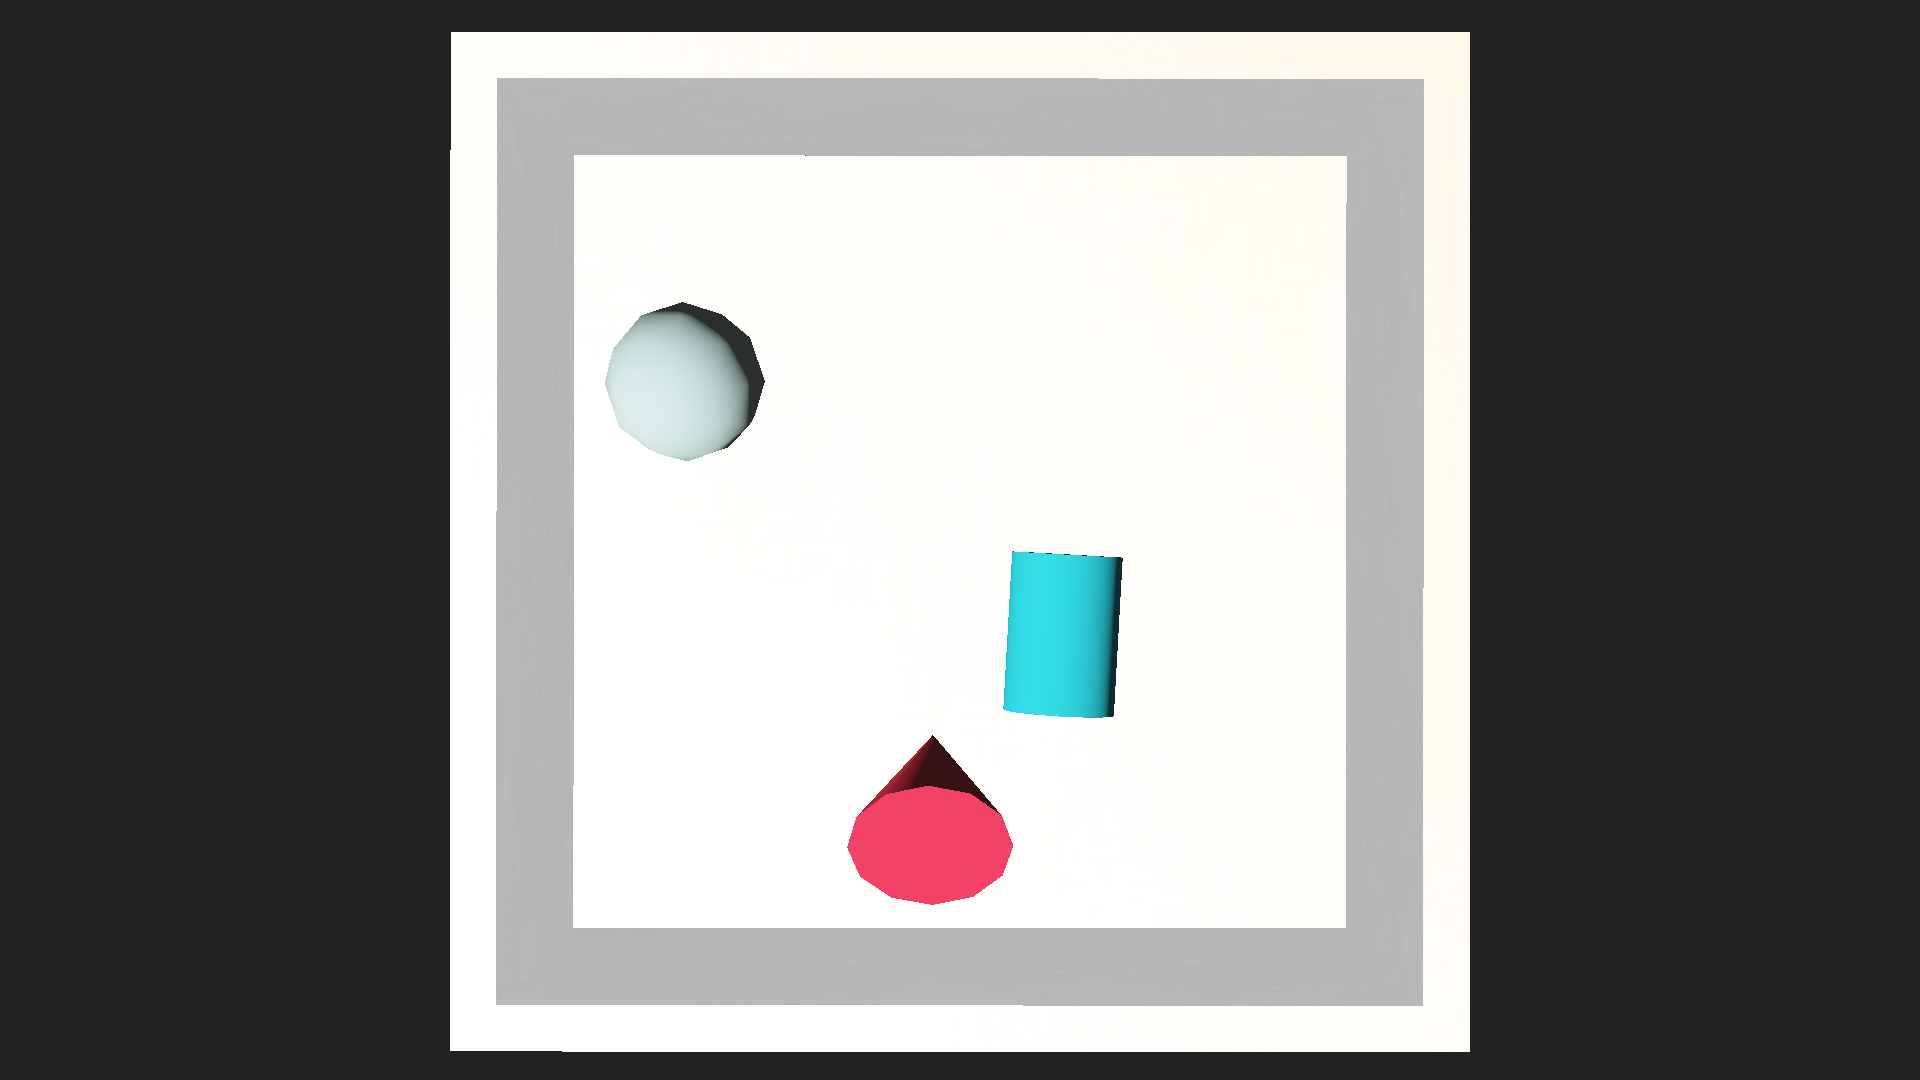cone: (1001, 550, 1126, 720)
cylinder: (852, 674, 1009, 914)
sphere: (604, 301, 764, 462)
